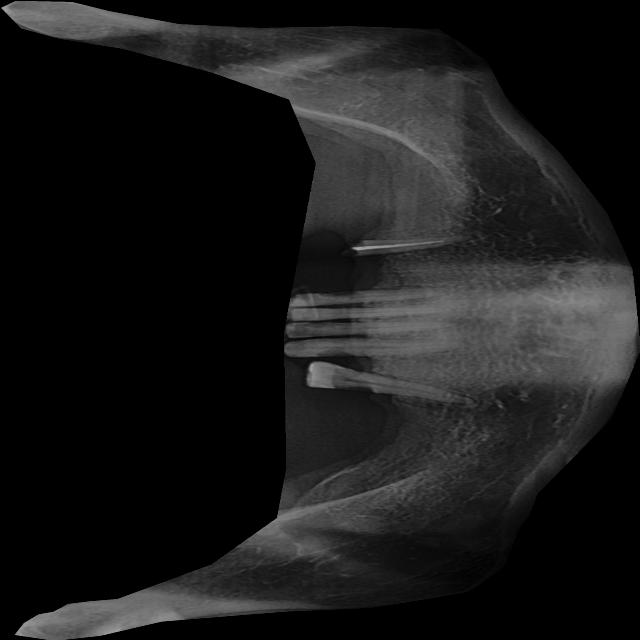mandibula: (1, 0, 640, 640)
